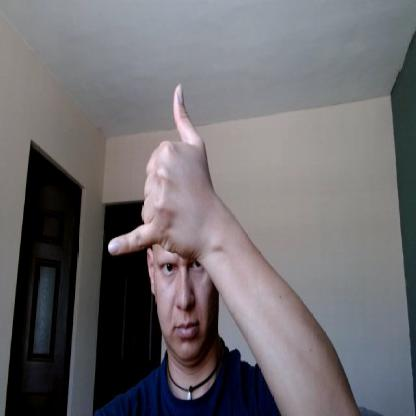Y: (106, 80, 208, 257)
